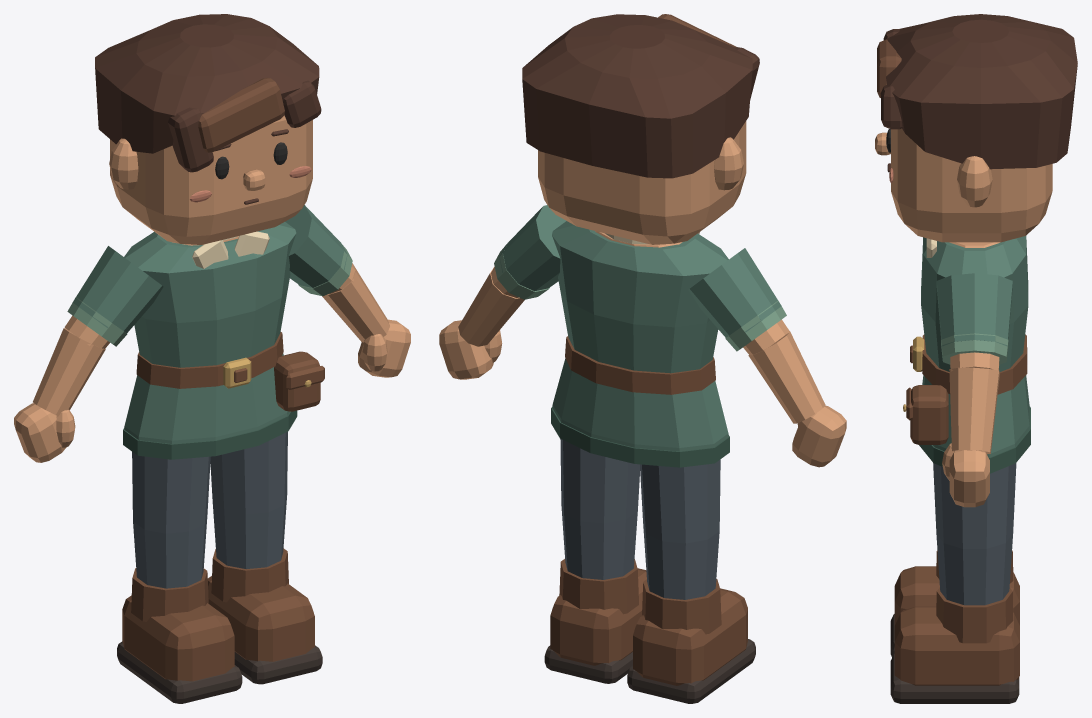
File: villager_base.glb
3 renders of one model, left to right at view 1: azimuth 30°, elevation 25°; view 2: azimuth 150°, elevation 25°; view 3: azimuth 270°, elevation 25°, orthographic. The views are drawn at different scales.
Parts seen in each view (by area): view 1: Outfit_Tunic, Hair_Cap, Body_Head, Outfit_Trouser_L, Outfit_Trouser_R, Footwear_Boot_L, Footwear_Boot_R, Outfit_Sleeve_L, Hair_Fringe_Centre, Body_Forearm_L, Outfit_Sleeve_R, Outfit_Hem (+19 smaller); view 2: Hair_Cap, Outfit_Tunic, Body_Head, Outfit_Trouser_L, Outfit_Trouser_R, Footwear_Boot_L, Footwear_Boot_R, Outfit_Sleeve_L, Body_Forearm_L, Outfit_Sleeve_R, Outfit_Belt, Outfit_Hem (+11 smaller); view 3: Hair_Cap, Body_Head, Outfit_Tunic, Outfit_Trouser_R, Footwear_Boot_R, Outfit_Sleeve_R, Body_Forearm_R, Footwear_Cuff_R, Footwear_Sole_R, Outfit_Pouch, Body_Hand_R, Footwear_Boot_L (+8 smaller).
Part boxes in pixels (left/top/right/bottom): Outfit_Tunic: left=124, top=222, right=296, bottom=443; Hair_Cap: left=95, top=14, right=319, bottom=153; Body_Head: left=110, top=115, right=312, bottom=244; Outfit_Trouser_L: left=132, top=452, right=210, bottom=588; Outfit_Trouser_R: left=210, top=431, right=287, bottom=568; Footwear_Boot_L: left=122, top=595, right=234, bottom=681; Footwear_Boot_R: left=207, top=576, right=314, bottom=661; Outfit_Sleeve_L: left=72, top=246, right=163, bottom=332; Hair_Fringe_Centre: left=198, top=77, right=284, bottom=152; Body_Forearm_L: left=33, top=328, right=105, bottom=416; Outfit_Sleeve_R: left=285, top=205, right=347, bottom=287; Outfit_Hem: left=123, top=410, right=297, bottom=459; Hair_Cap: left=522, top=14, right=752, bottom=178; Outfit_Tunic: left=552, top=221, right=728, bottom=451; Body_Head: left=538, top=121, right=746, bottom=244; Outfit_Trouser_L: left=640, top=459, right=720, bottom=599; Outfit_Trouser_R: left=560, top=439, right=639, bottom=579; Footwear_Boot_L: left=633, top=588, right=747, bottom=685; Footwear_Boot_R: left=550, top=568, right=646, bottom=665; Outfit_Sleeve_L: left=688, top=248, right=781, bottom=337; Body_Forearm_L: left=748, top=331, right=825, bottom=423; Outfit_Sleeve_R: left=499, top=205, right=566, bottom=291; Outfit_Belt: left=565, top=336, right=715, bottom=394; Outfit_Hem: left=551, top=407, right=729, bottom=467; Hair_Cap: left=886, top=14, right=1077, bottom=169; Body_Head: left=891, top=128, right=1052, bottom=242; Outfit_Tunic: left=921, top=236, right=1029, bottom=457; Outfit_Trouser_R: left=933, top=463, right=1016, bottom=605; Footwear_Boot_R: left=894, top=606, right=1019, bottom=685; Outfit_Sleeve_R: left=936, top=273, right=1012, bottom=346; Body_Forearm_R: left=949, top=367, right=999, bottom=454; Footwear_Cuff_R: left=936, top=587, right=1013, bottom=643; Footwear_Sole_R: left=890, top=654, right=1019, bottom=703; Outfit_Pouch: left=910, top=385, right=948, bottom=444; Body_Hand_R: left=949, top=450, right=989, bottom=507; Footwear_Boot_L: left=894, top=566, right=1019, bottom=625.
Bounding box in the file's own units: 1.21 × 1.85 × 0.533.
